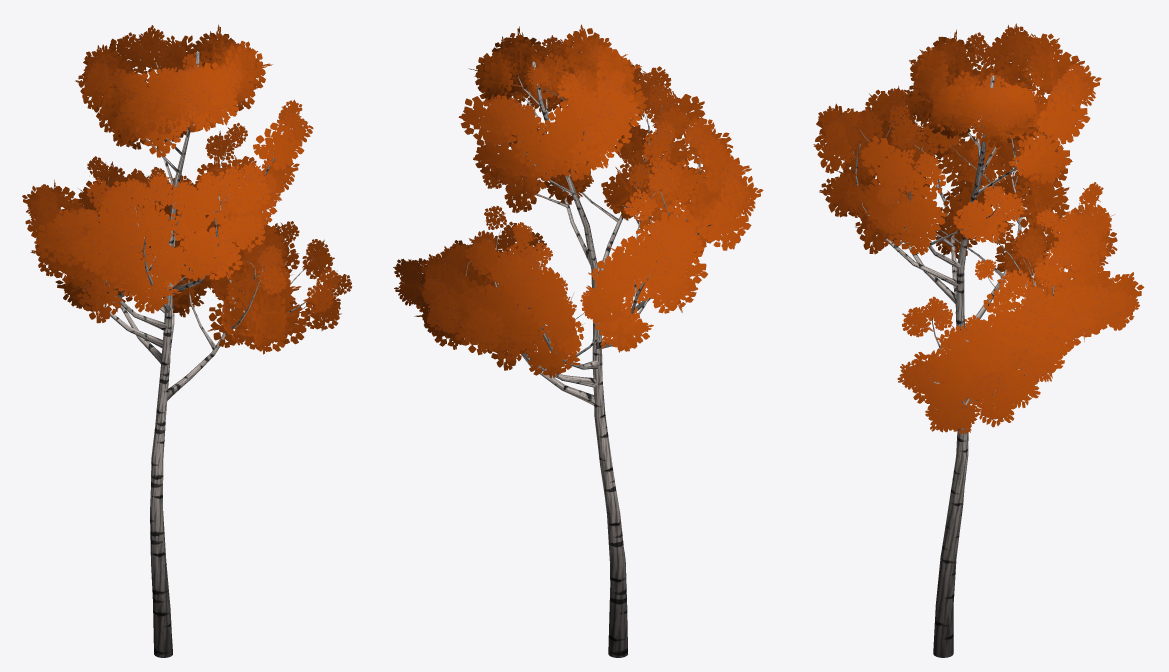
File: tree-health-3-mature.glb
3 views of the same model, side by side, from view 1: azimuth 30°, elevation 25°; view 2: azimuth 150°, elevation 25°; view 3: azimuth 270°, elevation 25° (orthographic). The views are drawn at different scales.
Parts seen in each view (by area): view 1: Birch_3; view 2: Birch_3; view 3: Birch_3.
Part boxes in pixels (x1,y1,x2,y2): Birch_3: (22, 24, 352, 657); Birch_3: (393, 24, 763, 657); Birch_3: (813, 23, 1144, 657).
Size of the model in its own units: 3.61 by 6.05 by 3.04.
2 materials, 2 textured.
